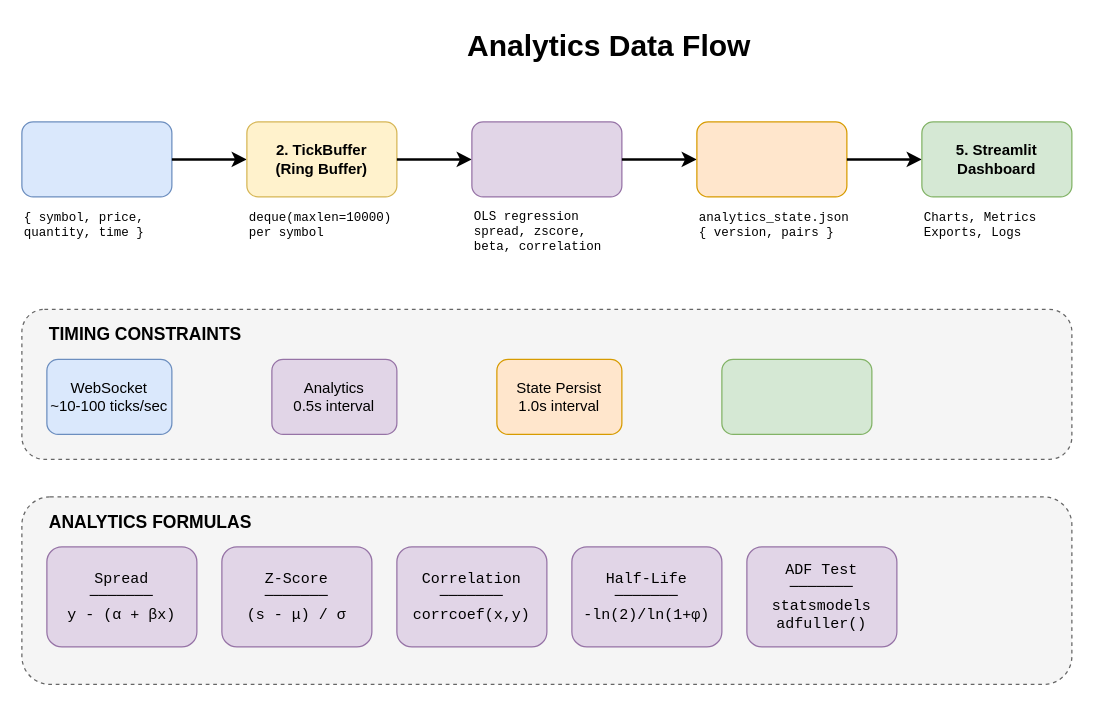
Some shapes in this 1094 by 706 pixel diagram are drawn without their labels. The centre of each missing label's shape, as x and y in pixels:
"1. WebSocket Trade Stream" goes at [96,159].
"3. AnalyticsEngine (Per Pair)" goes at [546,159].
"4. JSON Files (State Exchange)" goes at [771,159].
"UI Refresh 1.0s (configurable)" goes at [796,396].
